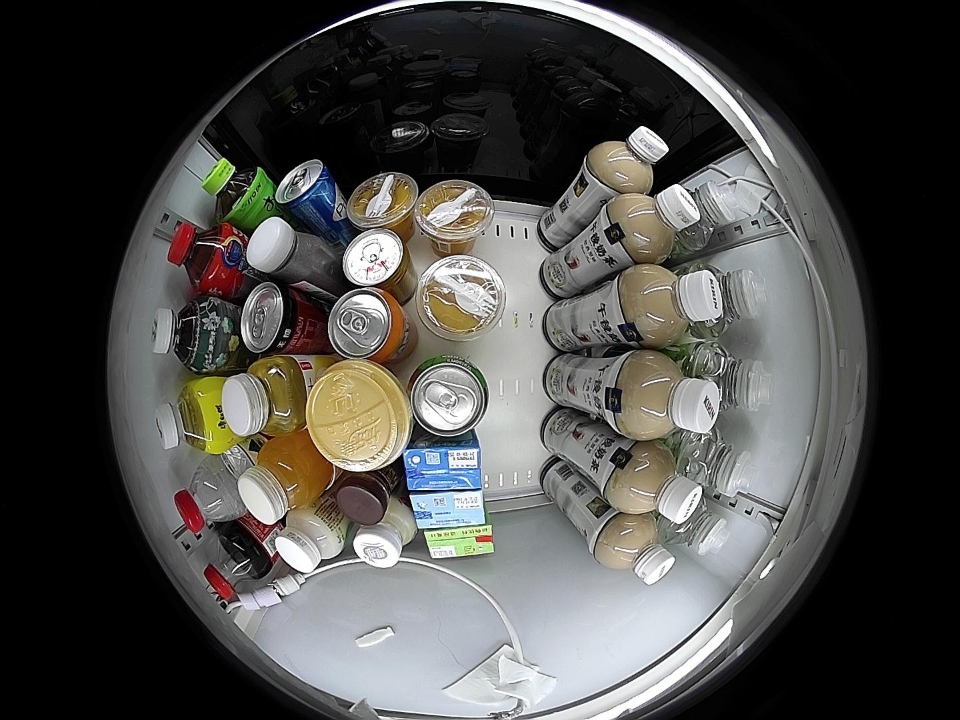binghongcha: (167, 222, 236, 296)
bingtangxueli: (155, 378, 227, 453)
chapai2: (220, 355, 308, 437)
fenda: (327, 288, 406, 362)
hongniu2: (341, 229, 410, 290)
jianjiao: (694, 342, 771, 414), (681, 428, 756, 498), (702, 265, 765, 337), (682, 177, 744, 250), (665, 496, 730, 556)
kele-b: (203, 534, 264, 601)
lingdukele: (240, 282, 311, 355)
lujikafei: (334, 466, 399, 524)
moliqingcha: (151, 297, 223, 374)
nongfushanquan: (174, 459, 242, 534)
qingdaowangzi-2: (275, 159, 338, 221)
quchenshixiangcao: (408, 355, 490, 437)
wanglaoji: (422, 525, 495, 560)
weic: (238, 436, 331, 523)
weitanai: (402, 436, 482, 492)
weitanaiditang: (409, 490, 486, 529)
weiweidounai: (274, 508, 345, 573), (352, 501, 419, 568)
wuhounaicha: (614, 350, 720, 440), (618, 262, 725, 346), (604, 443, 702, 524), (607, 183, 702, 262), (595, 512, 675, 586), (586, 125, 669, 195)
xianguolao: (416, 255, 506, 342), (414, 180, 495, 252), (346, 172, 419, 233)
yitengyuan: (201, 158, 269, 223)
youlemei: (305, 360, 411, 471)
youyanggudong: (246, 218, 328, 286)
